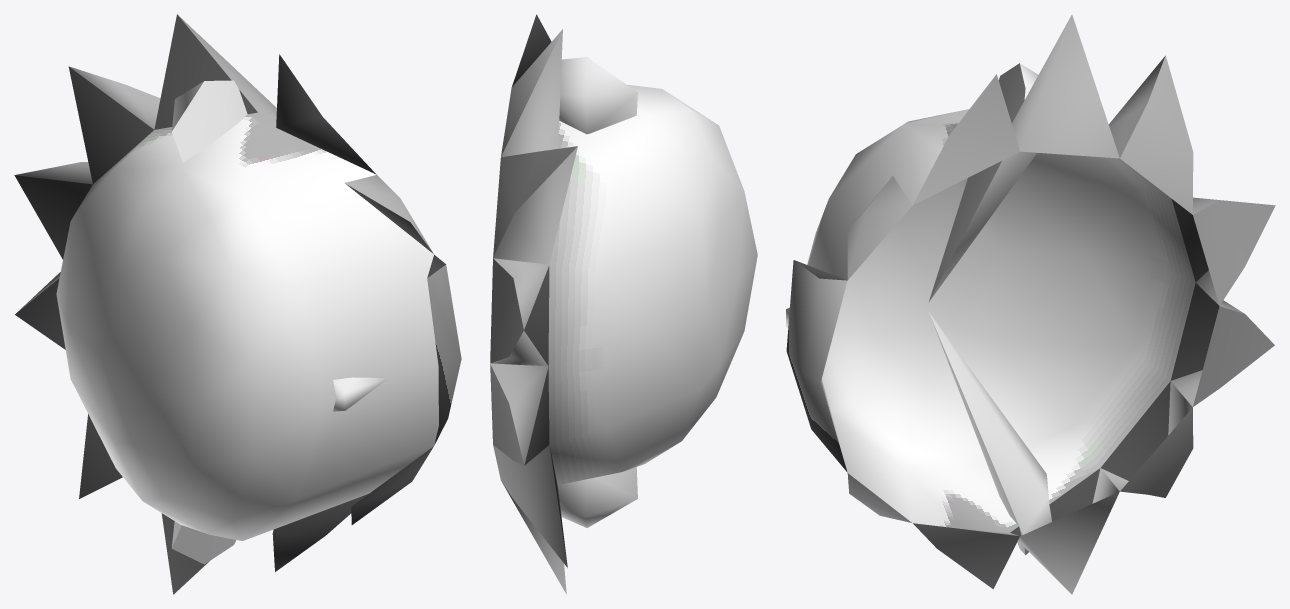
The model's file is boy12b.dae.
The picture shows the model from 3 angles, left to right: view 1: azimuth 30°, elevation 25°; view 2: azimuth 150°, elevation 25°; view 3: azimuth 270°, elevation 25°; orthographic projection. The views are drawn at different scales.
Parts seen in each view (by area): view 1: boy12b; view 2: boy12b; view 3: boy12b.
Part boxes in pixels (x1,y1,x2,y2): boy12b: (14,14,461,594); boy12b: (490,14,757,594); boy12b: (786,14,1275,594).
Size of the model in its own units: 15.5 by 32.04 by 24.4.
3 materials, 1 textured.
